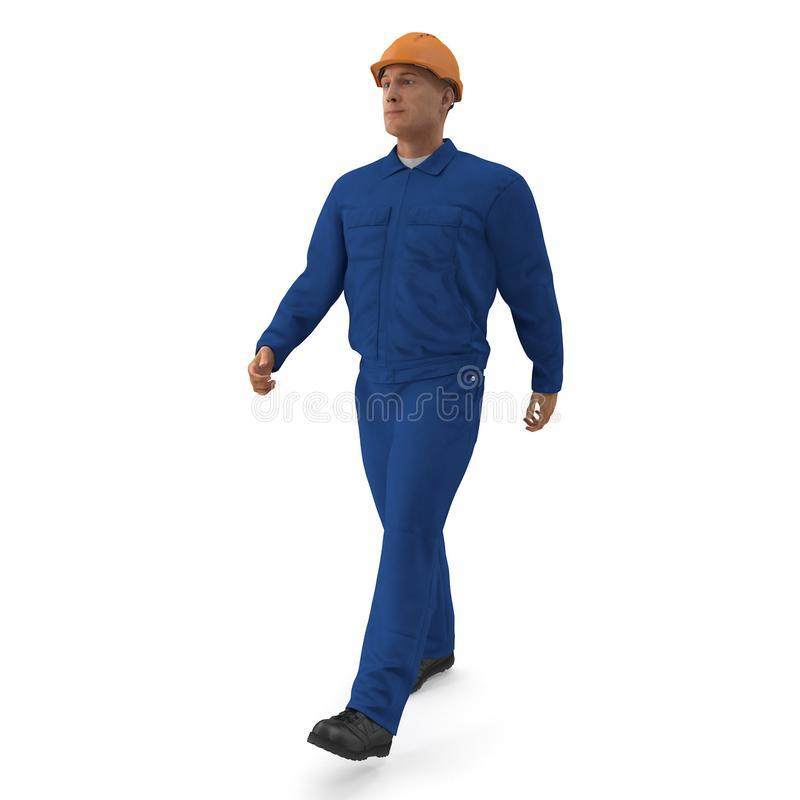helmet: (370, 32, 464, 105)
